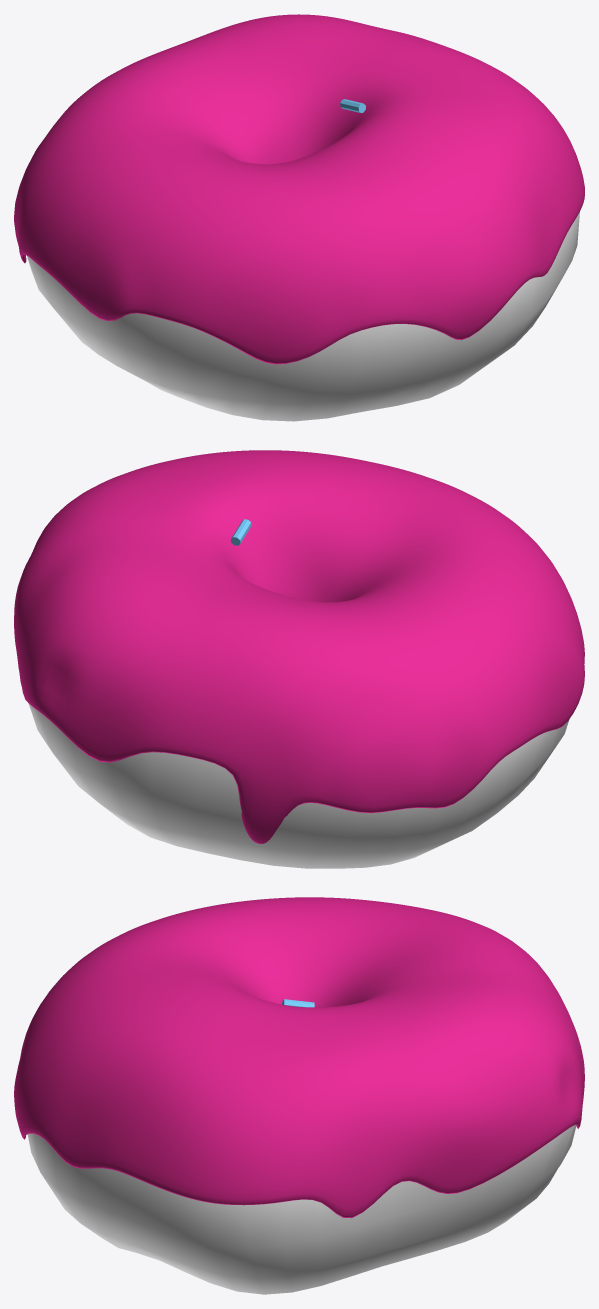
The model's file is donut.glb.
3 renders of one model, top to bottom at view 1: azimuth 30°, elevation 25°; view 2: azimuth 150°, elevation 25°; view 3: azimuth 270°, elevation 25°, orthographic. The views are drawn at different scales.
Visible parts, largest first — view 1: Icing, Donut; view 2: Icing, Donut; view 3: Icing, Donut.
Boxes of the visible parts, x1,y1,x2,y2 form: Icing: (14,14,584,364); Donut: (27,212,579,421); Icing: (14,450,584,843); Donut: (28,703,569,868); Icing: (14,897,584,1218); Donut: (27,1125,576,1294).
Size of the model in its own units: 0.252 by 0.1253 by 0.2432.
Materials: 3 (1 with a texture image).
